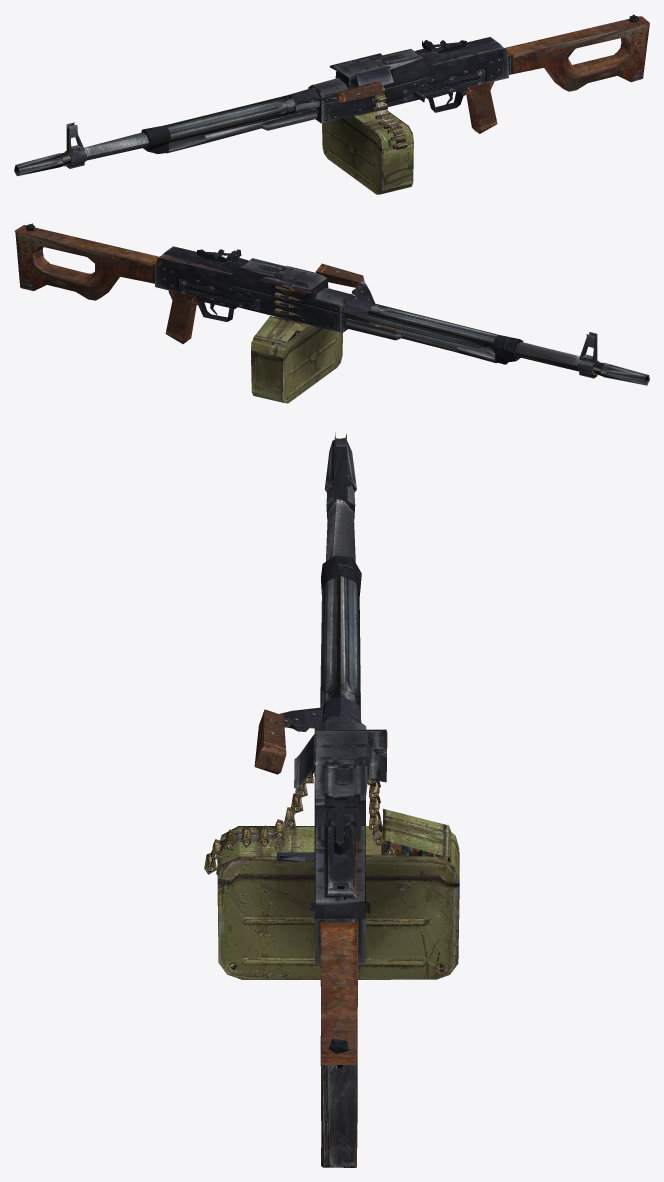
File: w_pkm.obj
3 views of the same model, one above another, from view 1: azimuth 30°, elevation 25°; view 2: azimuth 150°, elevation 25°; view 3: azimuth 270°, elevation 25° (orthographic). The views are drawn at different scales.
Visible parts, largest first — view 1: Pkm; view 2: Pkm; view 3: Pkm.
Boxes of the visible parts, bbox=[...] form: Pkm: bbox=[14, 14, 649, 194]; Pkm: bbox=[14, 223, 649, 403]; Pkm: bbox=[204, 432, 459, 1167].
Size of the model in its own units: 17.94 by 3.29 by 3.16.
